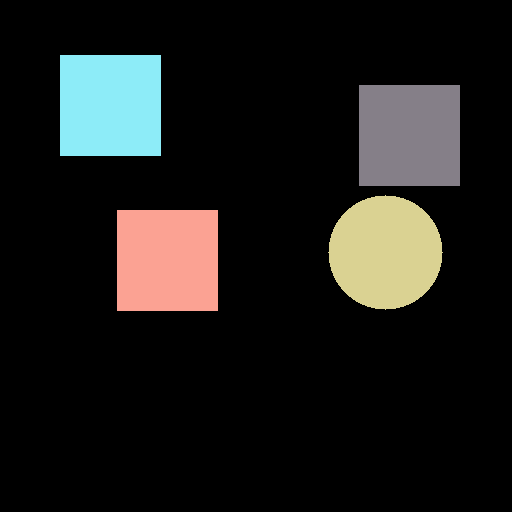circle: (328, 195, 442, 309)
square: (117, 210, 217, 310), (359, 85, 459, 185), (60, 55, 160, 155)
